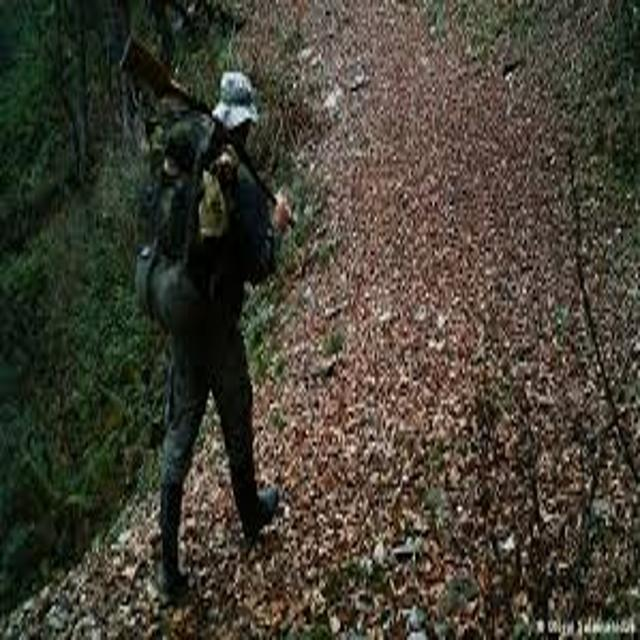backpack: (101, 111, 262, 350)
gun: (85, 27, 312, 245)
poacher: (50, 52, 336, 613)
